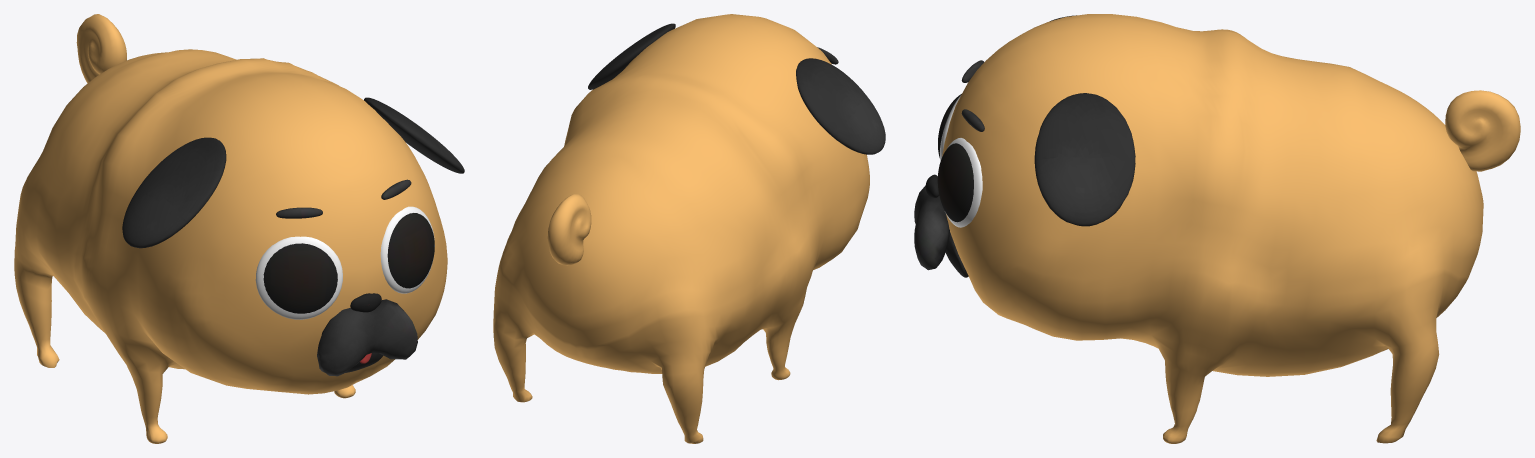
File: pug.glb
The picture shows the model from 3 angles, left to right: view 1: azimuth 30°, elevation 25°; view 2: azimuth 150°, elevation 25°; view 3: azimuth 270°, elevation 25°; orthographic projection. The views are drawn at different scales.
Visible parts, largest first — view 1: Body, Ear_r, Chops, Right_eye, Right_eye2, Tail, Ear_L, Right_eye1, Right_eye3, Nose, polySurface2; view 2: Body, Ear_r, Tail, Ear_L; view 3: Body, Ear_L, Tail, Right_eye2, Chops, Right_eye3.
Part boxes in pixels (bbox=[...]): Body: bbox=[14, 49, 447, 443]; Ear_r: bbox=[122, 137, 226, 248]; Chops: bbox=[317, 299, 417, 376]; Right_eye: bbox=[263, 243, 337, 313]; Right_eye2: bbox=[387, 213, 434, 288]; Tail: bbox=[76, 14, 126, 83]; Ear_L: bbox=[364, 97, 464, 173]; Right_eye1: bbox=[255, 236, 342, 319]; Right_eye3: bbox=[380, 206, 434, 293]; Nose: bbox=[350, 293, 381, 312]; polySurface2: bbox=[276, 207, 322, 218]; Body: bbox=[493, 14, 869, 443]; Ear_r: bbox=[796, 58, 885, 154]; Tail: bbox=[547, 194, 591, 265]; Ear_L: bbox=[588, 23, 675, 89]; Body: bbox=[942, 14, 1483, 443]; Ear_L: bbox=[1034, 93, 1135, 226]; Tail: bbox=[1445, 90, 1520, 171]; Right_eye2: bbox=[937, 143, 973, 222]; Chops: bbox=[914, 185, 949, 270]; Right_eye3: bbox=[945, 138, 982, 227].
Size of the model in its own units: 2.48 by 2.54 by 3.82.
Materials: 2 (1 with a texture image).
